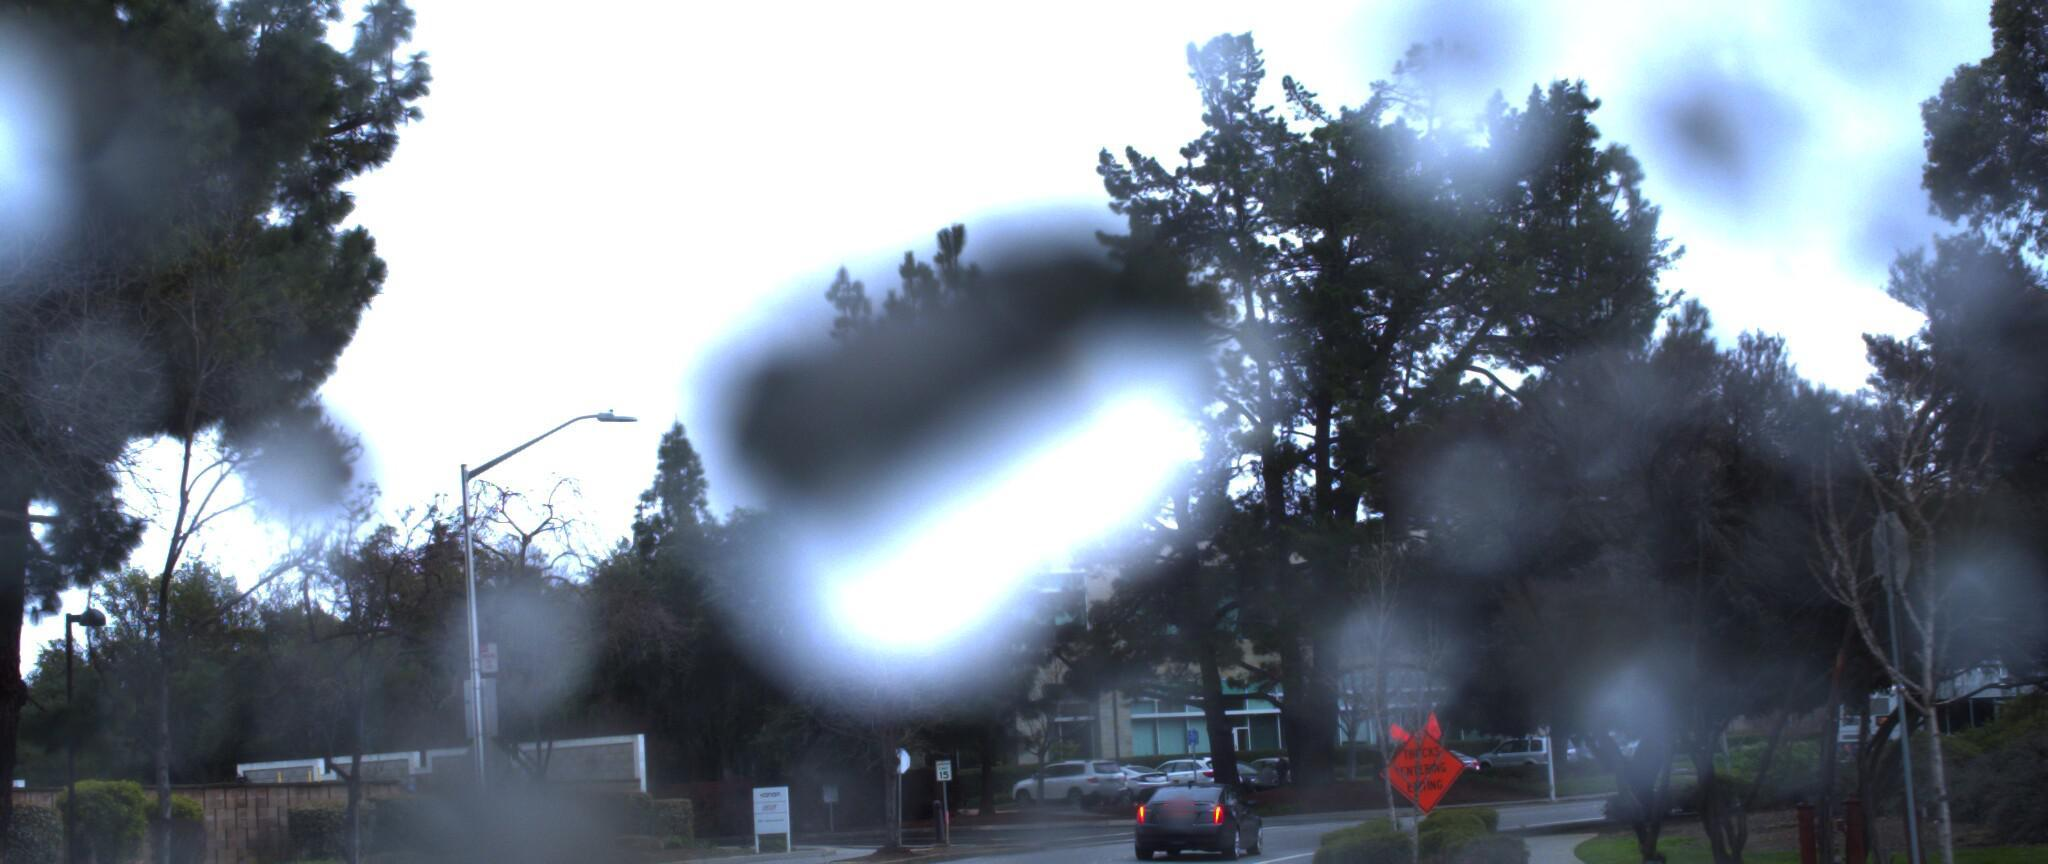car: (1113, 784, 1267, 864)
